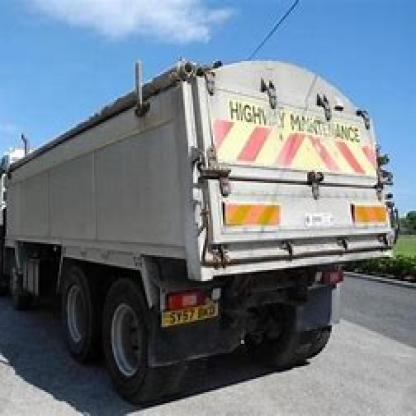dump_truck: (12, 33, 400, 407)
